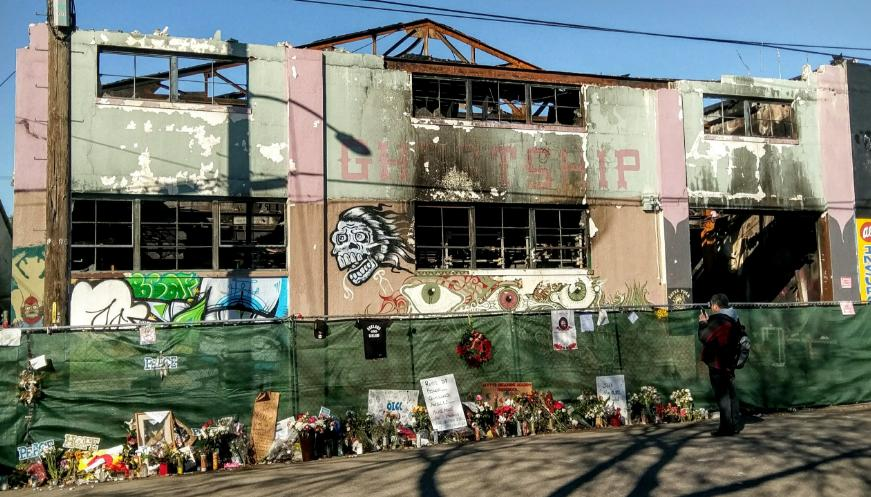graffiti: (68, 274, 293, 320), (366, 275, 607, 312), (327, 202, 408, 285), (15, 241, 40, 325)
